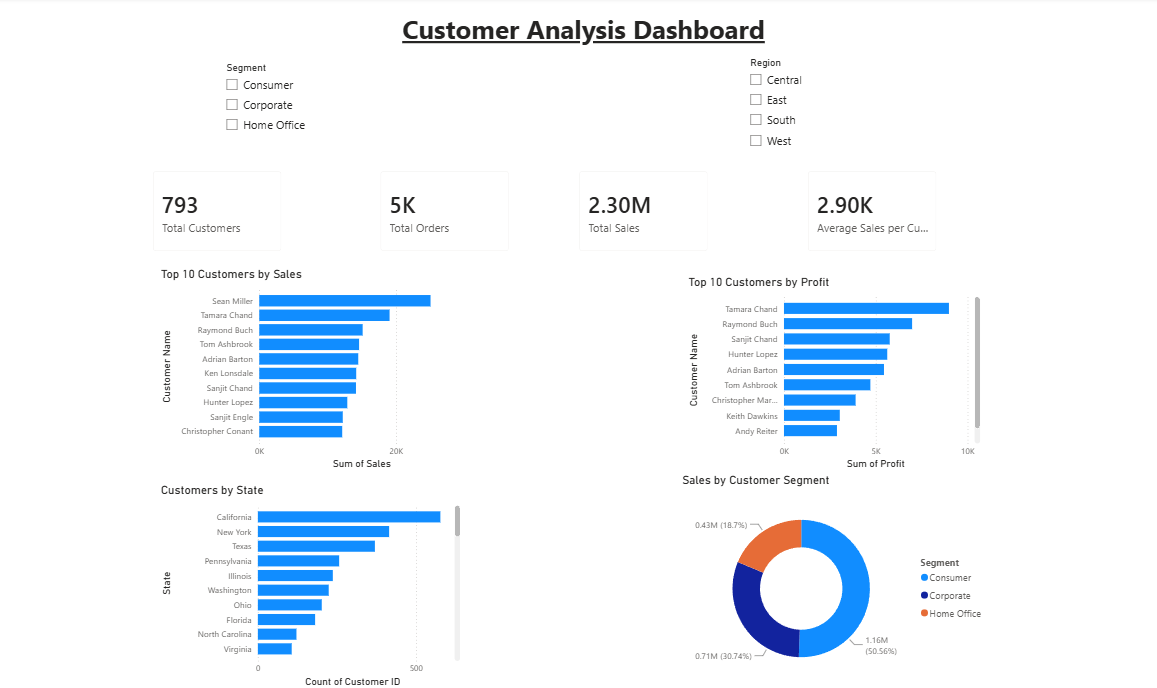

The page's visual inventory and layout, read from the dashboard file:
{"tool":"powerbi","page":{"name":"Customer Analysis","canvas":[1680,1000],"ordinal":2},"visuals":[{"type":"textbox","box":[581.7,16.2,704.2,52.2],"z":0},{"type":"clusteredBarChart","title":"Top 10 Customers by Sales","fields":{"Category":["Superstore.Customer Name"],"Y":["Sum(Superstore.Sales)"]},"box":[234.1,389,457.5,297.2],"z":1000},{"type":"clusteredBarChart","title":"Top 10 Customers by Profit","fields":{"Category":["Superstore.Customer Name"],"Y":["Sum(Superstore.Profit)"]},"box":[994.2,399.8,430.4,286.4],"z":2000},{"type":"donutChart","title":"Sales by Customer Segment","fields":{"Category":["Superstore.Segment"],"Y":["Sum(Superstore.Sales)"]},"box":[985.2,686.2,450.3,313.4],"z":3000},{"type":"clusteredBarChart","title":"Customers by State","fields":{"Category":["Superstore.State"],"Y":["Count(Superstore.Customer ID)"]},"box":[234.1,700.6,441.3,299],"z":4000},{"type":"slicer","fields":{"Values":["Superstore.Segment"]},"box":[320.6,88.3,326,145.9],"z":5000},{"type":"slicer","fields":{"Values":["Superstore.Region"]},"box":[1075.2,81,299,153.1],"z":6000},{"type":"cardVisual","fields":{"Data":["Superstore.Total Customers"]},"box":[210.7,234.1,219.7,149.5],"z":7000},{"type":"cardVisual","fields":{"Data":["Superstore.Total Orders"]},"box":[538.5,234.1,219.7,149.5],"z":8000},{"type":"cardVisual","fields":{"Data":["Superstore.Total Sales"]},"box":[824.9,234.1,219.7,149.5],"z":9000},{"type":"cardVisual","fields":{"Data":["Superstore.Average Sales per Customer"]},"box":[1154.5,234.1,219.7,149.5],"z":10000}]}

Visuals, with their boxes in screenshot pixels (x1, y1, x2, y2), scaled from the page's 1680x1000 canvas onto the 1157x688 screenshot:
textbox: 401:11:886:47
"Top 10 Customers by Sales" clusteredBarChart: 161:268:476:472
"Top 10 Customers by Profit" clusteredBarChart: 685:275:981:472
"Sales by Customer Segment" donutChart: 678:472:989:687
"Customers by State" clusteredBarChart: 161:482:465:687
slicer - Superstore.Segment: 221:61:445:161
slicer - Superstore.Region: 740:56:946:161
cardVisual - Superstore.Total Customers: 145:161:296:264
cardVisual - Superstore.Total Orders: 371:161:522:264
cardVisual - Superstore.Total Sales: 568:161:719:264
cardVisual - Superstore.Average Sales per Customer: 795:161:946:264
